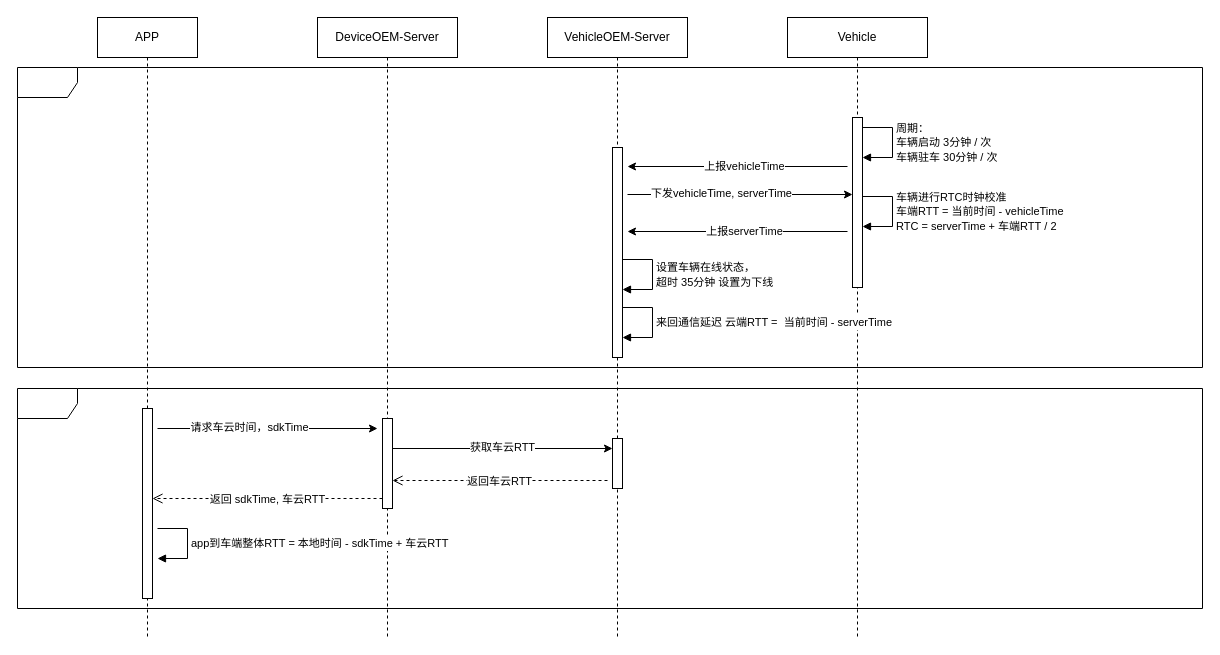
This 1220x655 diagram has some shape labels left out. The shapes that lost their labels are listed below. From the top down, each one's box as (x1, y1, x2, y2) in pixels, then its label:
(16, 66, 1202, 368): 心跳
(16, 388, 1202, 608): 获取车辆信号强度
